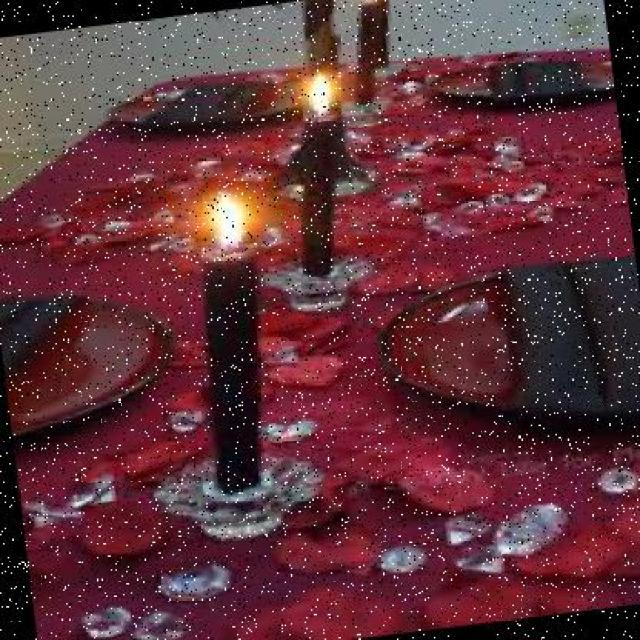fire: (175, 186, 254, 249), (283, 68, 349, 120)
